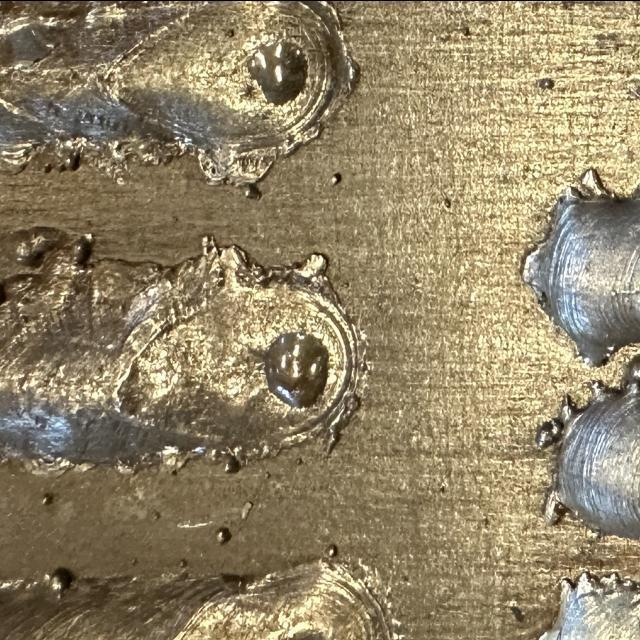Excess Reinforcement: (561, 572, 639, 612), (535, 393, 583, 448), (324, 392, 360, 455), (161, 445, 241, 473), (220, 243, 269, 288), (114, 135, 192, 163), (520, 228, 549, 298), (225, 147, 277, 185), (38, 135, 89, 172), (15, 455, 92, 477), (278, 122, 322, 157), (78, 0, 130, 27), (541, 473, 568, 525), (198, 147, 235, 183), (0, 142, 39, 173), (578, 167, 616, 198), (16, 233, 52, 265), (576, 341, 618, 365), (0, 8, 29, 38), (581, 380, 609, 410), (620, 353, 640, 390), (299, 253, 328, 277), (71, 235, 92, 265), (200, 235, 220, 264), (565, 395, 576, 407)
Spatters: (49, 567, 72, 595), (216, 525, 231, 543), (536, 77, 555, 90), (326, 543, 338, 558), (42, 492, 54, 505), (331, 172, 341, 185), (442, 197, 451, 208), (179, 559, 188, 568), (153, 511, 161, 520), (294, 457, 302, 465), (264, 471, 271, 478), (131, 558, 137, 565)
